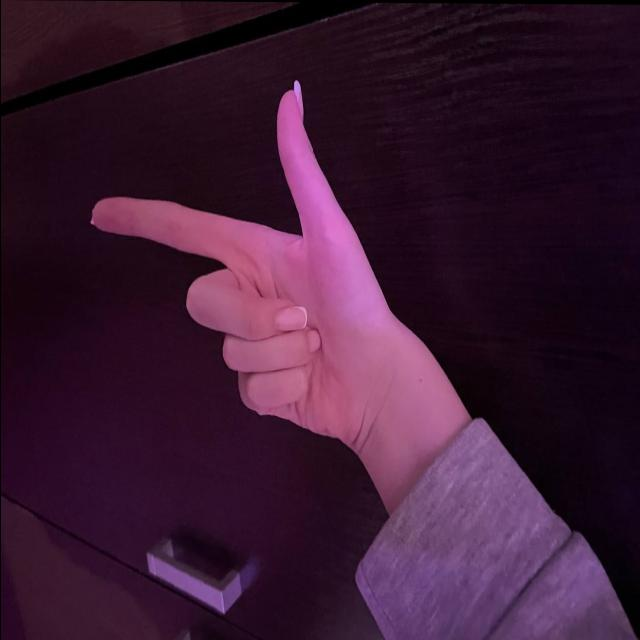g: (90, 90, 375, 457)
